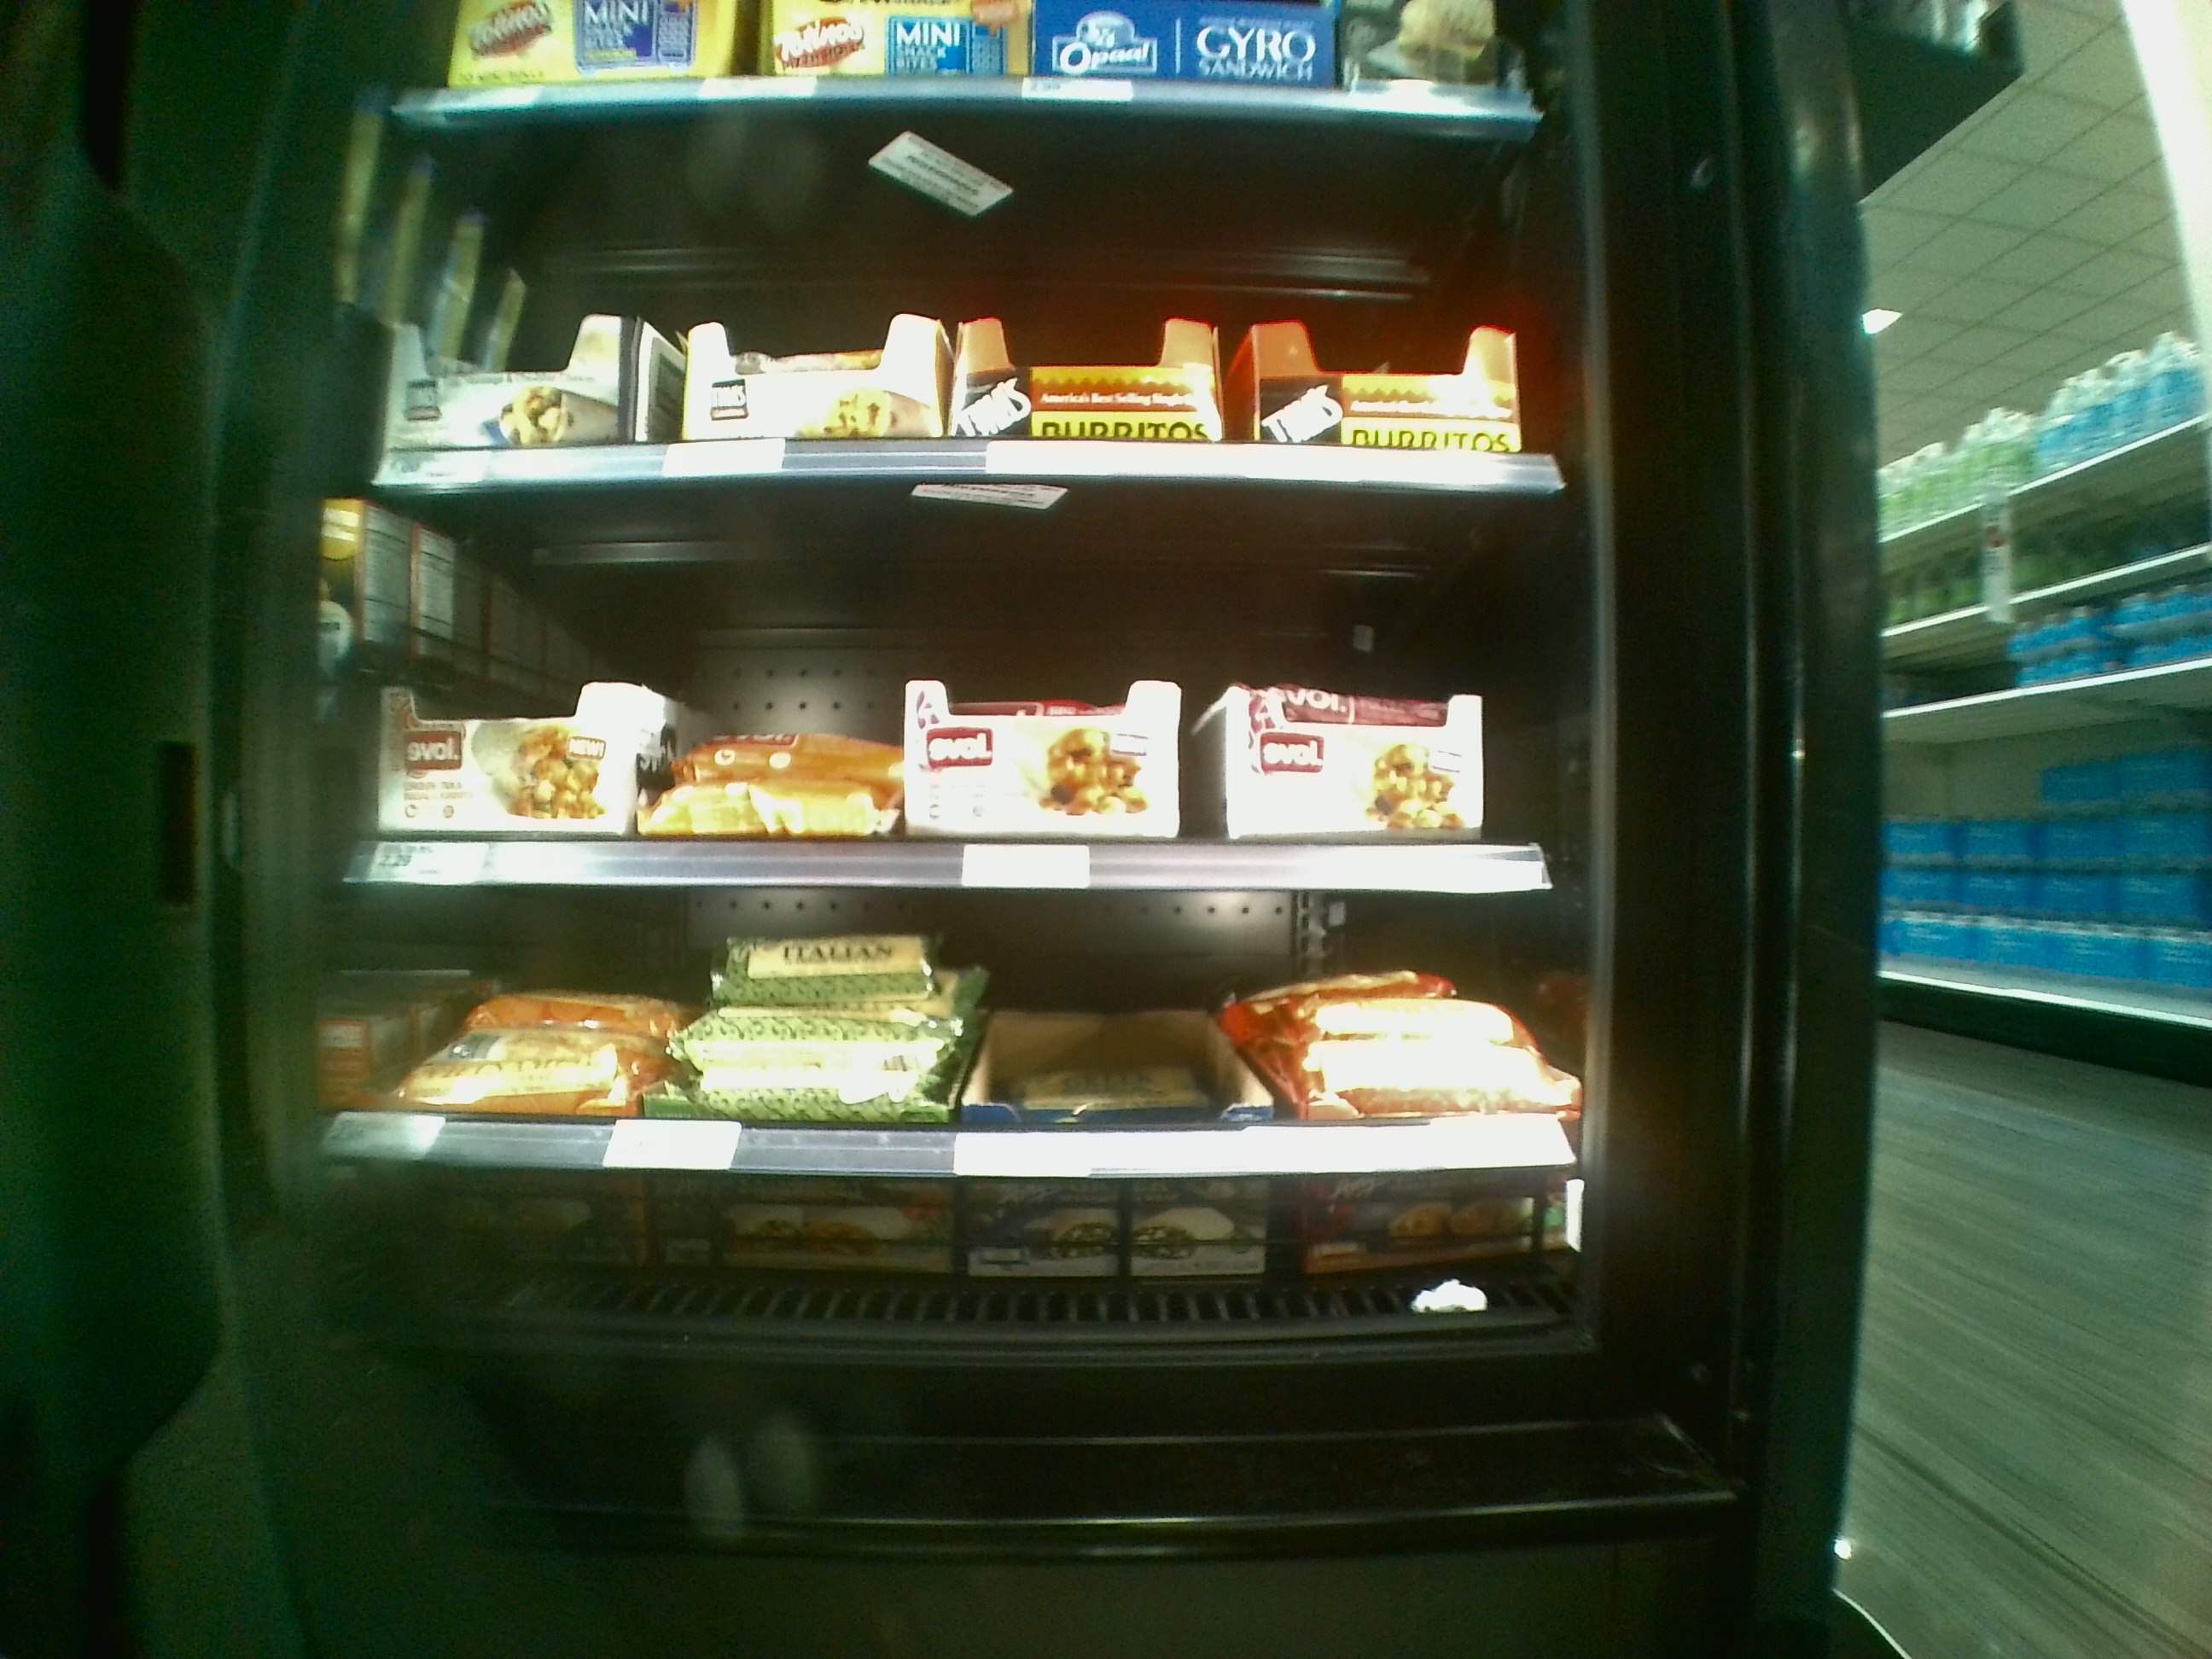shelf: (343, 880, 1587, 1333), (359, 495, 1578, 892), (378, 120, 1575, 498)
